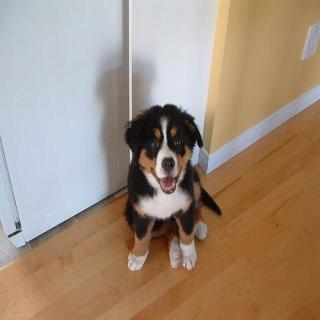dog: (120, 100, 207, 198)
nose: (160, 154, 177, 173)
